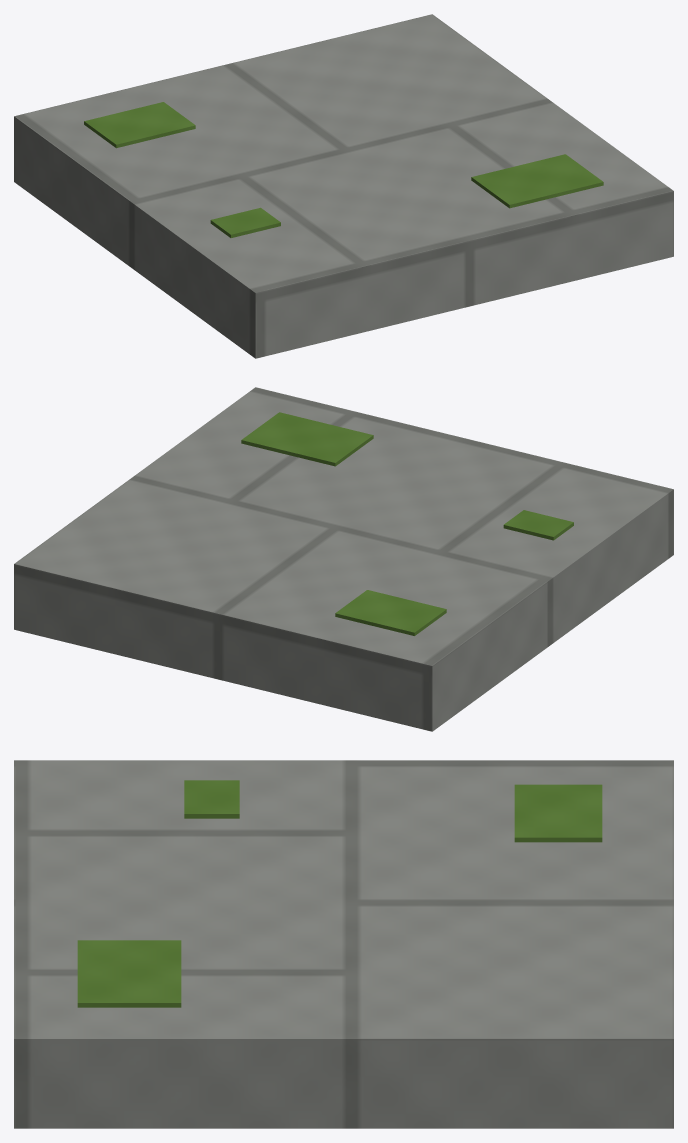
The model's file is floor_moss.obj.
The picture shows the model from 3 angles, top to bottom: view 1: azimuth 30°, elevation 25°; view 2: azimuth 150°, elevation 25°; view 3: azimuth 270°, elevation 25°; orthographic projection. The views are drawn at different scales.
Visible parts, largest first — view 1: floor_moss; view 2: floor_moss; view 3: floor_moss.
Part boxes in pixels (left/top/right/bottom): floor_moss: left=14, top=14, right=673, bottom=358; floor_moss: left=14, top=387, right=673, bottom=731; floor_moss: left=14, top=760, right=673, bottom=1128.
Bounding box in the file's own units: 2 × 0.316 × 2.
Materials: 2 (2 with a texture image).
